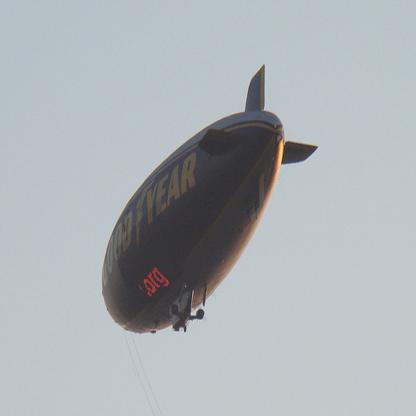Airship: (94, 61, 320, 339)
